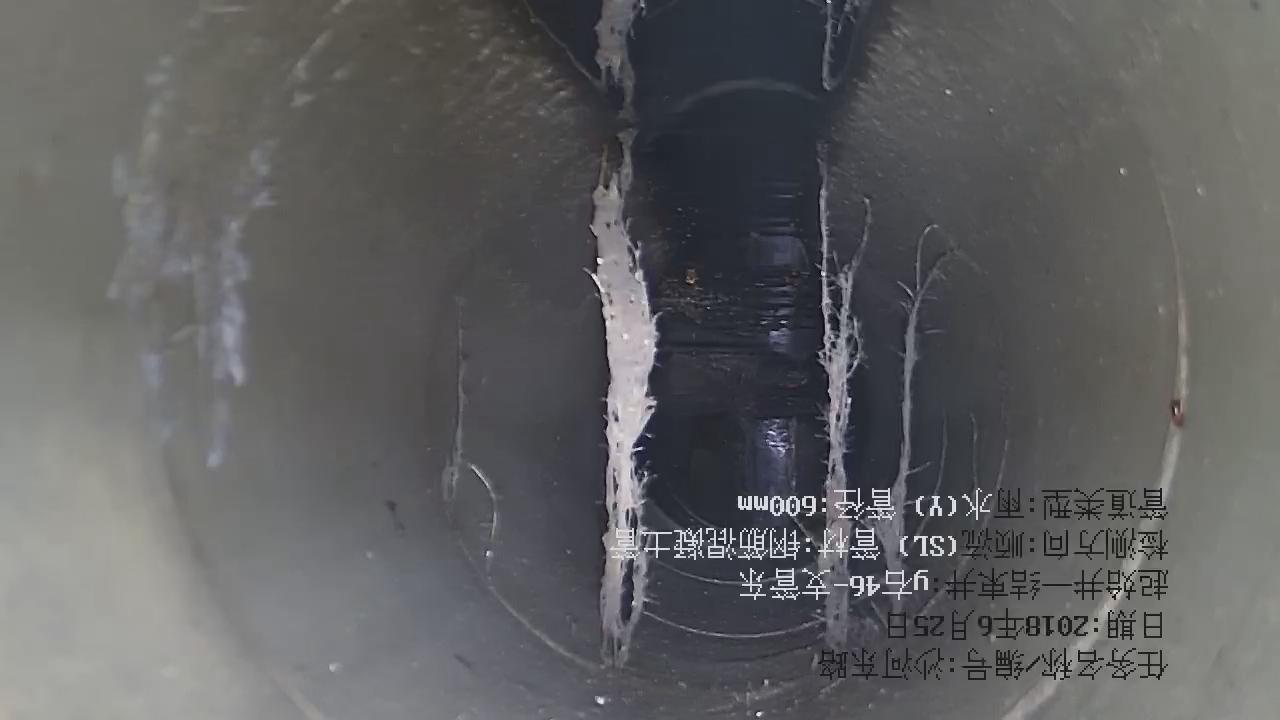SG: (797, 179, 941, 649), (583, 1, 658, 666), (446, 305, 498, 580)
